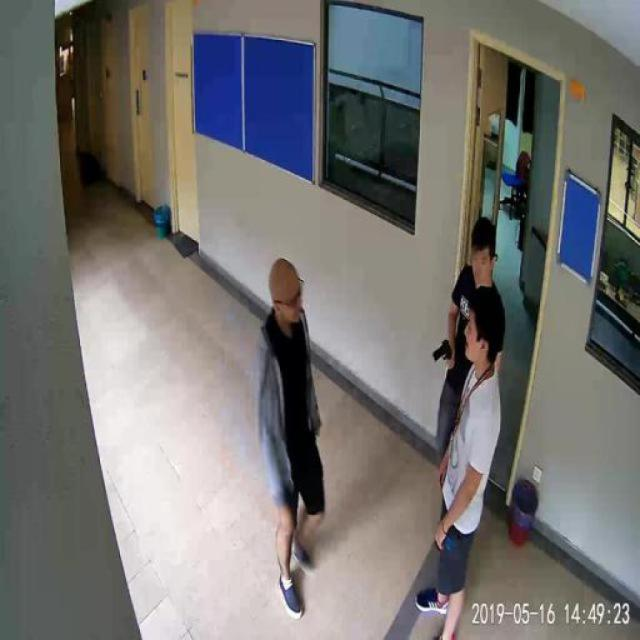pistol: (431, 336, 451, 366)
